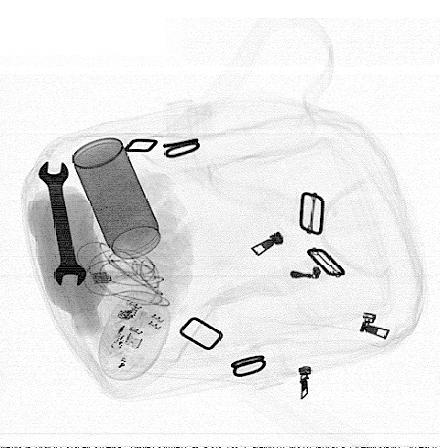Wrench: (37, 160, 88, 287)
